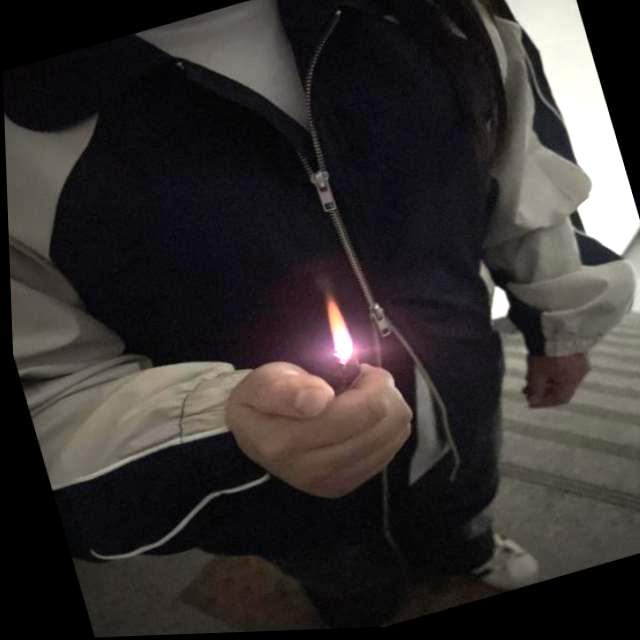fire: (314, 289, 354, 363)
